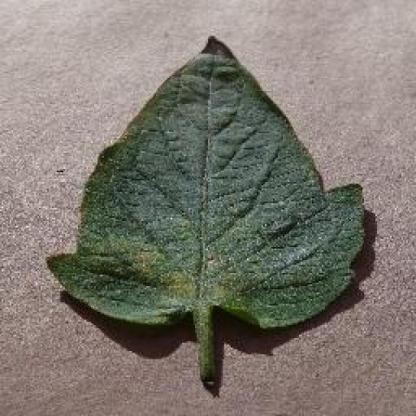Tomato_Spider_Mites: (49, 38, 364, 324)
